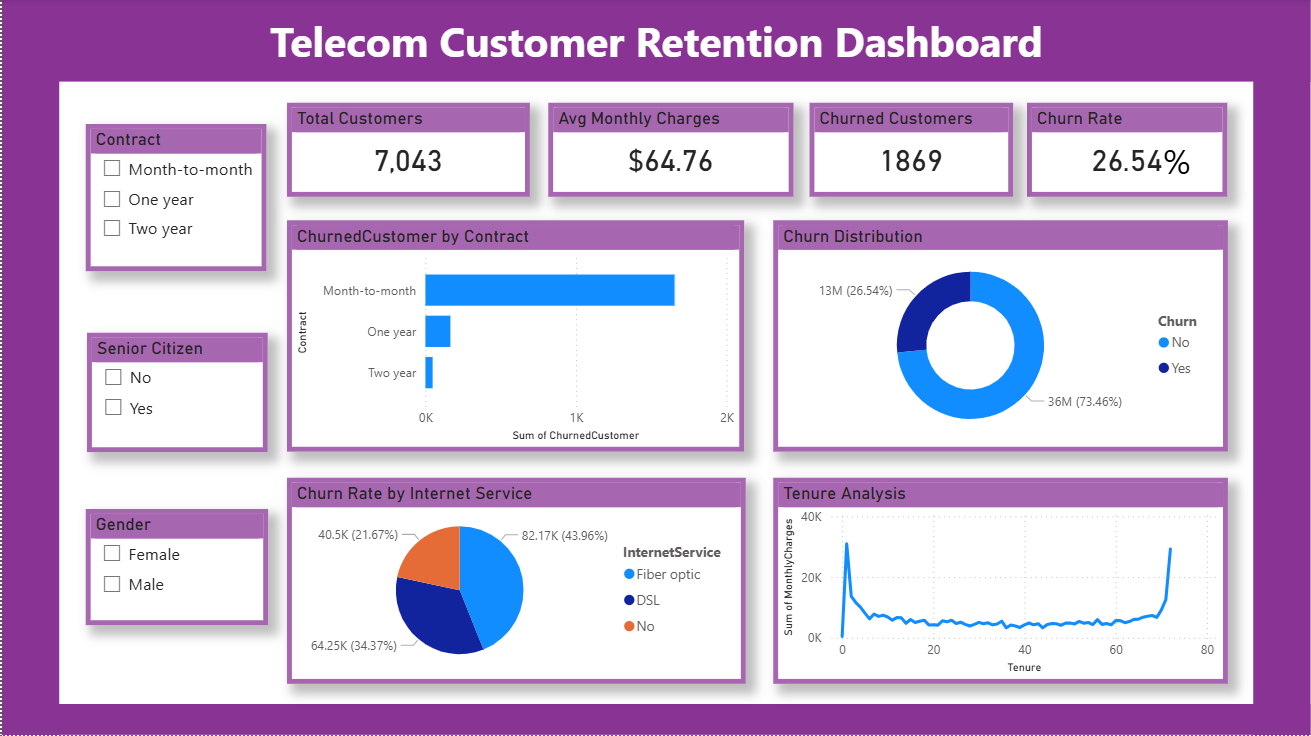

The page's visual inventory and layout, read from the dashboard file:
{"tool":"powerbi","page":{"name":"Page 1","canvas":[1280,720],"ordinal":0},"visuals":[{"type":"card","title":"Total Customers","fields":{"Values":["Count(telco_churn_cleaned (1).CustomerID)"]},"box":[278.6,101.5,237.4,91.9],"z":0},{"type":"shape","box":[0,0,56.3,720.4],"z":1000},{"type":"shape","title":"elecom Customer Retention Dashboard ","box":[0,0,1280.3,81],"z":2000},{"type":"shape","box":[0,690.2,1280.3,30.2],"z":3000},{"type":"shape","box":[1224,0,56.3,720.4],"z":4000},{"type":"card","title":"Churn Rate","fields":{"Values":["Avg(telco_churn_cleaned (1).ChurnRate_pct)"]},"box":[1003.1,101.5,196.2,91.9],"z":5000},{"type":"shape","box":[1134.8,133,28.8,49.4],"z":6000},{"type":"card","title":"Avg Monthly Charges","fields":{"Values":["Avg(telco_churn_cleaned (1).MonthlyCharges)"]},"box":[533.8,101.5,240.1,91.9],"z":7000},{"type":"card","title":"Churned Customers","fields":{"Values":["Sum(telco_churn_cleaned (1).ChurnedCustomer)"]},"box":[790.4,101.5,199,91.9],"z":8000},{"type":"donutChart","title":"Churn Distribution","fields":{"Category":["telco_churn_cleaned (1).Churn"],"Y":["Sum(telco_churn_cleaned (1).TotalCustomers)"]},"box":[860.4,231.9,338.9,211.3],"z":9000},{"type":"clusteredBarChart","title":" ChurnedCustomer by Contract","fields":{"Category":["telco_churn_cleaned (1).Contract"],"Y":["Sum(telco_churn_cleaned (1).ChurnedCustomer)"]},"box":[82.3,511.8,310.1,157.8],"z":10000},{"type":"pieChart","title":"Churn Rate by Internet Service","fields":{"Category":["telco_churn_cleaned (1).InternetService"],"Y":["Sum(telco_churn_cleaned (1).ChurnRate_pct)"]},"box":[430.9,513.2,396.6,157.8],"z":11000},{"type":"lineChart","title":"Tenure Analysis","fields":{"Category":["telco_churn_cleaned (1).Tenure"],"Y":["Sum(telco_churn_cleaned (1).MonthlyCharges)"]},"box":[860.4,465.2,338.9,204.5],"z":12000},{"type":"slicer","title":"Contract","fields":{"Values":["telco_churn_cleaned (1).Contract"]},"box":[82.3,101.5,177,144.1],"z":13000},{"type":"slicer","title":"Senior Citizen","fields":{"Values":["telco_churn_cleaned (1).SeniorCitizen"]},"box":[82.3,259.3,177,116.6],"z":14000},{"type":"slicer","title":"Gender","fields":{"Values":["telco_churn_cleaned (1).Gender"]},"box":[82.3,385.6,178.4,113.9],"z":15000},{"type":"clusteredBarChart","title":" RetentionRate by Churn","fields":{"Category":["telco_churn_cleaned (1).Churn"],"Y":["Sum(telco_churn_cleaned (1).RetentionRate_pct)"]},"box":[289.5,231.9,537.9,253.9],"z":16000}]}

Visuals, with their boxes in screenshot pixels (x1, y1, x2, y2), scaled from the page's 1280x720 canvas onto the 1311x736 screenshot:
"Total Customers" card: (285,104,528,198)
shape: (0,0,58,735)
"elecom Customer Retention Dashboard " shape: (0,0,1310,83)
shape: (0,706,1310,735)
shape: (1254,0,1310,735)
"Churn Rate" card: (1027,104,1228,198)
shape: (1162,136,1192,186)
"Avg Monthly Charges" card: (547,104,793,198)
"Churned Customers" card: (810,104,1013,198)
"Churn Distribution" donutChart: (881,237,1228,453)
" ChurnedCustomer by Contract" clusteredBarChart: (84,523,402,684)
"Churn Rate by Internet Service" pieChart: (441,525,848,686)
"Tenure Analysis" lineChart: (881,476,1228,685)
"Contract" slicer: (84,104,266,251)
"Senior Citizen" slicer: (84,265,266,384)
"Gender" slicer: (84,394,267,511)
" RetentionRate by Churn" clusteredBarChart: (297,237,847,497)
